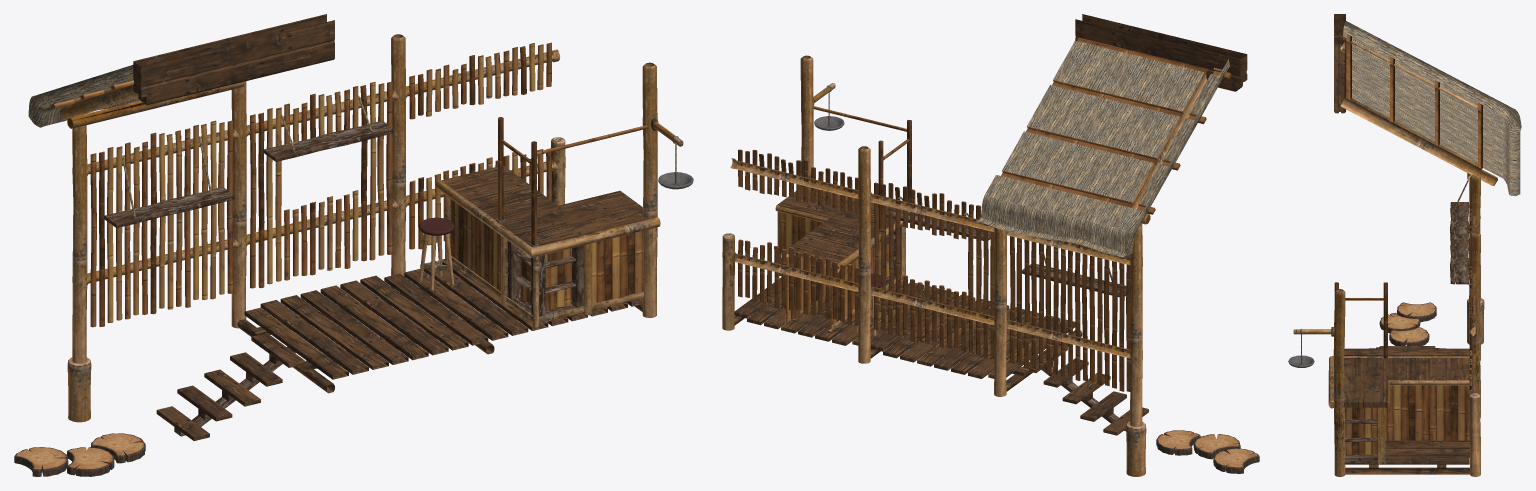
The model's file is bambu-tiki.glb.
3 renders of one model, left to right at view 1: azimuth 30°, elevation 25°; view 2: azimuth 150°, elevation 25°; view 3: azimuth 270°, elevation 25°, orthographic. The views are drawn at different scales.
Visible parts, largest first — view 1: G_Bar_Main, G_Wall_Full, G_Wall_Window, G_Floor_Inner, G_Beam_Inner, G_Floor_Outer, G_Wall_Top, G_Stairs, G_Roof_Outer, G_Post, G_Post3, G_Post1 (+15 smaller); view 2: G_Roof_Inner, G_Wall_Full, G_Wall_Window, G_Bar_Main, G_Wall_Bottom, G_Floor_Outer, G_Wall_Top, G_Beam_Inner, G_Roof_Outer, G_Floor_Outer1, G_Post2, G_Stairs (+13 smaller); view 3: G_Roof_Inner, G_Bar_Main, G_Roof_Outer, G_Bar_End, G_Post3, G_Floor_Outer1, G_Post2, G_Floor_Inner1, G_Post_Half, G_Shelf_Window, G_Shelf_Long, G_Beam_Inner (+11 smaller).
Part boxes in pixels (x1,y1,x2,y2): G_Bar_Main: (435, 117, 657, 327); G_Wall_Full: (86, 120, 239, 327); G_Wall_Window: (245, 81, 398, 288); G_Floor_Inner: (287, 304, 489, 392); G_Beam_Inner: (167, 14, 334, 98); G_Floor_Outer: (243, 273, 441, 345); G_Wall_Top: (405, 42, 560, 119); G_Stairs: (156, 333, 304, 440); G_Roof_Outer: (28, 60, 147, 128); G_Post: (72, 115, 87, 363); G_Post3: (642, 62, 657, 317); G_Post1: (231, 81, 246, 328); G_Roof_Inner: (977, 38, 1208, 254); G_Wall_Full: (1006, 231, 1130, 391); G_Wall_Window: (870, 182, 994, 358); G_Bar_Main: (778, 106, 911, 335); G_Wall_Bottom: (734, 239, 858, 325); G_Floor_Outer: (870, 319, 1037, 382); G_Wall_Top: (730, 149, 858, 214); G_Beam_Inner: (1075, 14, 1218, 79); G_Roof_Outer: (1113, 59, 1231, 258); G_Floor_Outer1: (734, 286, 901, 345); G_Post2: (858, 146, 870, 363); G_Stairs: (1022, 344, 1148, 435); G_Roof_Inner: (1340, 43, 1520, 196); G_Bar_Main: (1328, 282, 1469, 440); G_Roof_Outer: (1340, 21, 1521, 138); G_Bar_End: (1328, 400, 1389, 463); G_Post3: (1333, 289, 1345, 476); G_Floor_Outer1: (1407, 435, 1469, 474); G_Post2: (1469, 231, 1480, 417); G_Floor_Inner1: (1345, 440, 1407, 474); G_Post_Half: (1469, 393, 1480, 476); G_Shelf_Window: (1450, 226, 1476, 284); G_Shelf_Long: (1450, 180, 1469, 240); G_Beam_Inner: (1334, 40, 1345, 113).
Bounding box in the file's own units: 0.074 × 0.0514 × 0.0344.
1 material, 1 textured.
